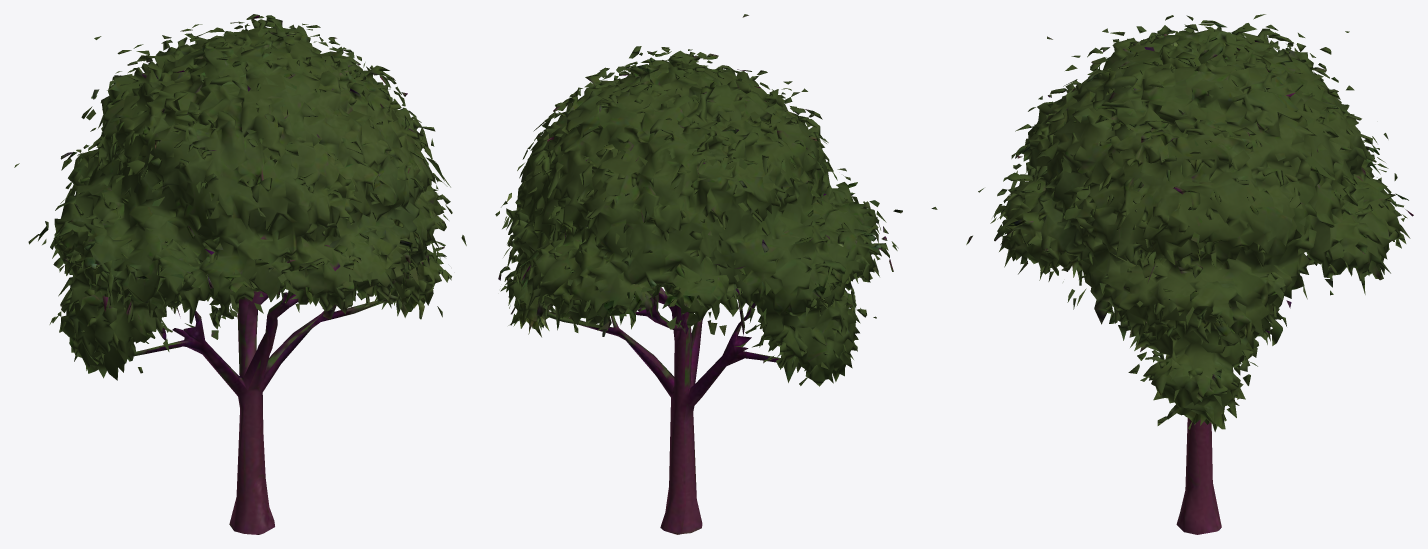
File: khaya.glb
3 views of the same model, side by side, from view 1: azimuth 30°, elevation 25°; view 2: azimuth 150°, elevation 25°; view 3: azimuth 270°, elevation 25° (orthographic). The views are drawn at different scales.
Visible parts, largest first — view 1: world; view 2: world; view 3: world.
Part boxes in pixels (<box>): world: <box>14,14,466,534</box>; world: <box>495,14,937,534</box>; world: <box>966,14,1413,534</box>.
Size of the model in its own units: 1.65 by 1.99 by 1.61.
1 material, 1 textured.
